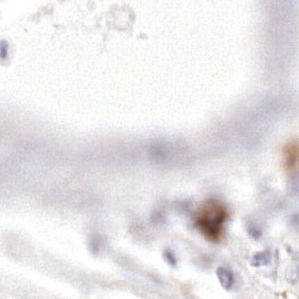Lymphocyte: (194, 201, 229, 241)
